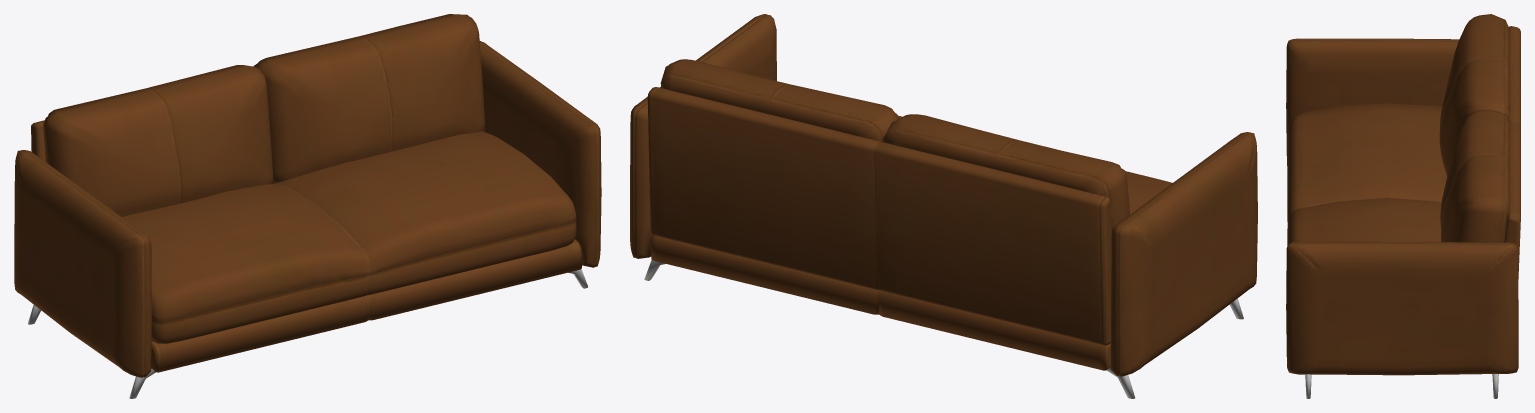
The model's file is office-leathersofa.glb.
3 views of the same model, side by side, from view 1: azimuth 30°, elevation 25°; view 2: azimuth 150°, elevation 25°; view 3: azimuth 270°, elevation 25° (orthographic). The views are drawn at different scales.
Parts seen in each view (by area): view 1: Cube_leather_sofa_0; view 2: Cube_leather_sofa_0; view 3: Cube_leather_sofa_0.
Part boxes in pixels (x1,y1,x2,y2): Cube_leather_sofa_0: (14, 14, 601, 398); Cube_leather_sofa_0: (630, 14, 1257, 398); Cube_leather_sofa_0: (1286, 14, 1520, 398).
Size of the model in its own units: 2.02 by 0.8252 by 0.9245.
Materials: 1 (1 with a texture image).
